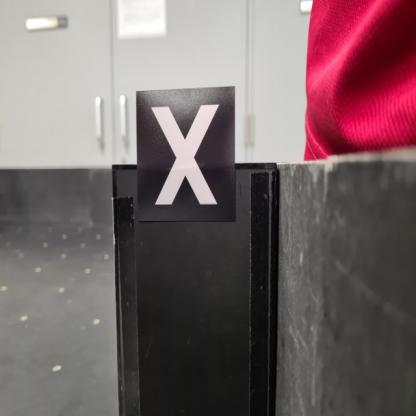x: (137, 88, 237, 227)
